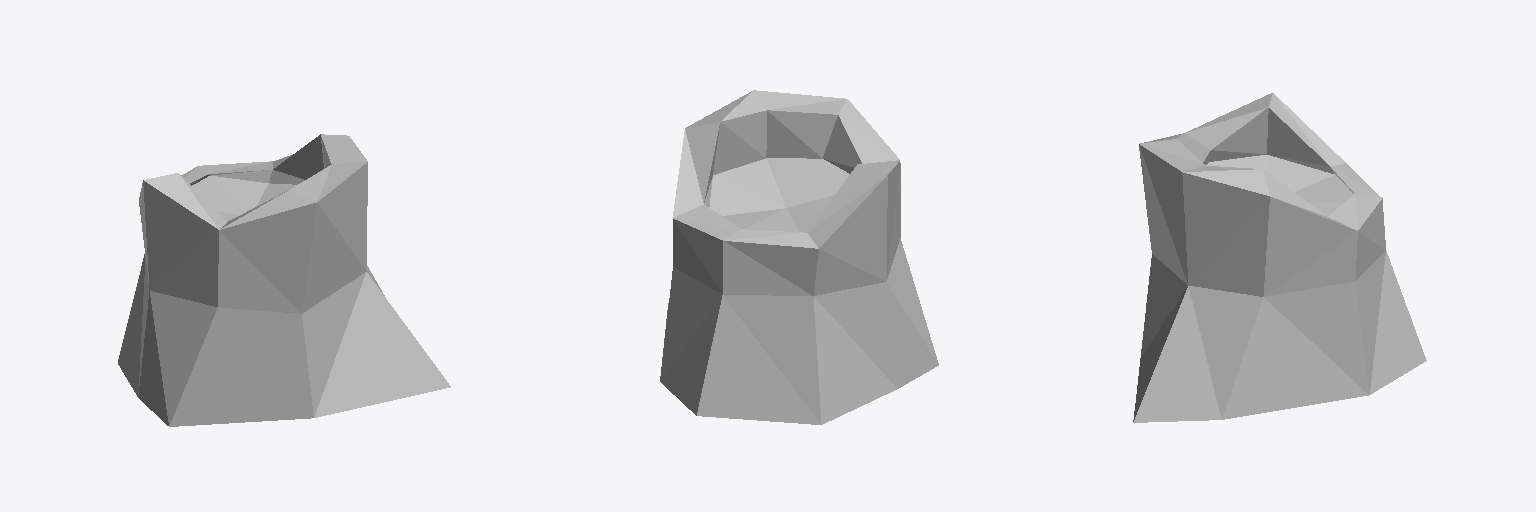
The model's file is tree_stump_1.obj.
The picture shows the model from 3 angles: view 1: azimuth 30°, elevation 25°; view 2: azimuth 150°, elevation 25°; view 3: azimuth 270°, elevation 25°; orthographic projection.
Parts seen in each view (by area): view 1: tree_stump_1; view 2: tree_stump_1; view 3: tree_stump_1.
Part boxes in pixels (x1,y1,x2,y2): tree_stump_1: (118,134,450,426); tree_stump_1: (660,90,938,424); tree_stump_1: (1133,93,1426,422).
Size of the model in its own units: 1.23 by 1.05 by 1.21.